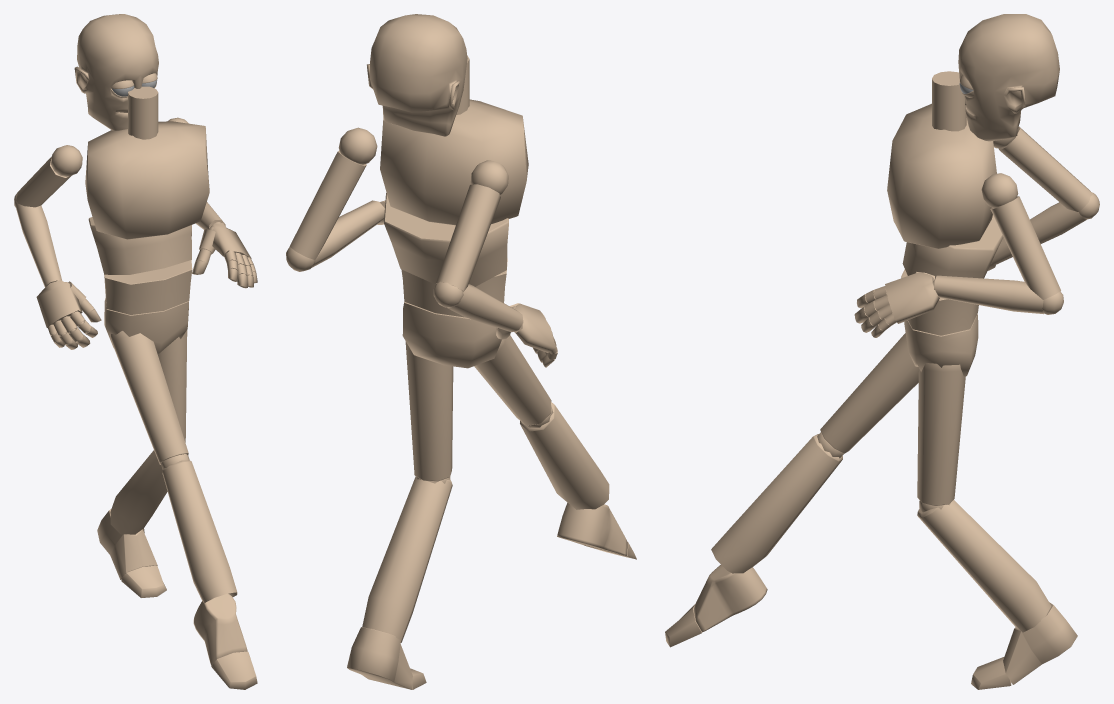
Rendered from MaxAnim.fbx.
3 renders of one model, left to right at view 1: azimuth 30°, elevation 25°; view 2: azimuth 150°, elevation 25°; view 3: azimuth 270°, elevation 25°, orthographic. The views are drawn at different scales.
Visible parts, largest first — view 1: MAX_RIG:dummyTorso_Geo, MAX_RIG:head_Geo, MAX_RIG:dummyLowerLegR_Geo, MAX_RIG:dummyUpperLegR_Geo, MAX_RIG:dummySpine2_Geo, MAX_RIG:dummySpine1_Geo, MAX_RIG:dummyLowerLegL_Geo, MAX_RIG:dummyHip_Geo, MAX_RIG:dummyAnkleR_Geo, MAX_RIG:dummyOverArmR_Geo, MAX_RIG:dummyUnderArmR_Geo, MAX_RIG:dummyAnkleL_Geo (+6 smaller); view 2: MAX_RIG:dummyTorso_Geo, MAX_RIG:head_Geo, MAX_RIG:dummyLowerLegL_Geo, MAX_RIG:dummyUpperLegL_Geo, MAX_RIG:dummySpine2_Geo, MAX_RIG:dummyLowerLegR_Geo, MAX_RIG:dummyOverArmL_Geo, MAX_RIG:dummyHip_Geo, MAX_RIG:dummyOverArmR_Geo, MAX_RIG:dummyUpperLegR_Geo, MAX_RIG:dummyAnkleL_Geo, MAX_RIG:dummyAnkleR_Geo (+4 smaller); view 3: MAX_RIG:dummyTorso_Geo, MAX_RIG:head_Geo, MAX_RIG:dummyLowerLegR_Geo, MAX_RIG:dummyLowerLegL_Geo, MAX_RIG:dummyUpperLegL_Geo, MAX_RIG:dummyUpperLegR_Geo, MAX_RIG:dummyOverArmL_Geo, MAX_RIG:dummyUnderArmL_Geo, MAX_RIG:dummySpine2_Geo, MAX_RIG:dummyOverArmR_Geo, MAX_RIG:dummyAnkleL_Geo, MAX_RIG:dummyAnkleR_Geo (+7 smaller).
Boxes of the visible parts, <box> form: MAX_RIG:dummyTorso_Geo: <box>85,121,209,239</box>; MAX_RIG:head_Geo: <box>74,14,158,130</box>; MAX_RIG:dummyLowerLegR_Geo: <box>162,460,237,603</box>; MAX_RIG:dummyUpperLegR_Geo: <box>111,331,189,469</box>; MAX_RIG:dummySpine2_Geo: <box>88,217,191,274</box>; MAX_RIG:dummySpine1_Geo: <box>104,260,192,314</box>; MAX_RIG:dummyLowerLegL_Geo: <box>110,450,167,534</box>; MAX_RIG:dummyHip_Geo: <box>104,298,188,353</box>; MAX_RIG:dummyAnkleR_Geo: <box>193,593,247,665</box>; MAX_RIG:dummyOverArmR_Geo: <box>16,145,82,207</box>; MAX_RIG:dummyUnderArmR_Geo: <box>14,192,62,287</box>; MAX_RIG:dummyAnkleL_Geo: <box>97,509,157,579</box>; MAX_RIG:dummyTorso_Geo: <box>380,99,528,225</box>; MAX_RIG:head_Geo: <box>367,14,467,136</box>; MAX_RIG:dummyLowerLegL_Geo: <box>362,476,452,642</box>; MAX_RIG:dummyUpperLegL_Geo: <box>405,341,453,483</box>; MAX_RIG:dummySpine2_Geo: <box>384,193,508,286</box>; MAX_RIG:dummyLowerLegR_Geo: <box>520,402,609,509</box>; MAX_RIG:dummyOverArmL_Geo: <box>289,127,377,259</box>; MAX_RIG:dummyHip_Geo: <box>402,302,501,368</box>; MAX_RIG:dummyOverArmR_Geo: <box>436,160,508,291</box>; MAX_RIG:dummyUpperLegR_Geo: <box>474,335,553,427</box>; MAX_RIG:dummyAnkleL_Geo: <box>347,627,412,689</box>; MAX_RIG:dummyAnkleR_Geo: <box>557,502,627,555</box>; MAX_RIG:dummyTorso_Geo: <box>887,103,996,248</box>; MAX_RIG:head_Geo: <box>958,14,1059,141</box>; MAX_RIG:dummyLowerLegR_Geo: <box>711,434,842,573</box>; MAX_RIG:dummyLowerLegL_Geo: <box>917,500,1051,632</box>; MAX_RIG:dummyUpperLegL_Geo: <box>917,363,965,512</box>; MAX_RIG:dummyUpperLegR_Geo: <box>817,333,918,458</box>; MAX_RIG:dummyOverArmL_Geo: <box>981,173,1060,299</box>; MAX_RIG:dummyUnderArmL_Geo: <box>934,275,1063,314</box>; MAX_RIG:dummySpine2_Geo: <box>902,215,1003,279</box>; MAX_RIG:dummyOverArmR_Geo: <box>993,126,1092,211</box>; MAX_RIG:dummyAnkleL_Geo: <box>1003,602,1077,684</box>; MAX_RIG:dummyAnkleR_Geo: <box>694,565,767,632</box>.
Size of the model in its own units: 63.44 by 187 by 113.
